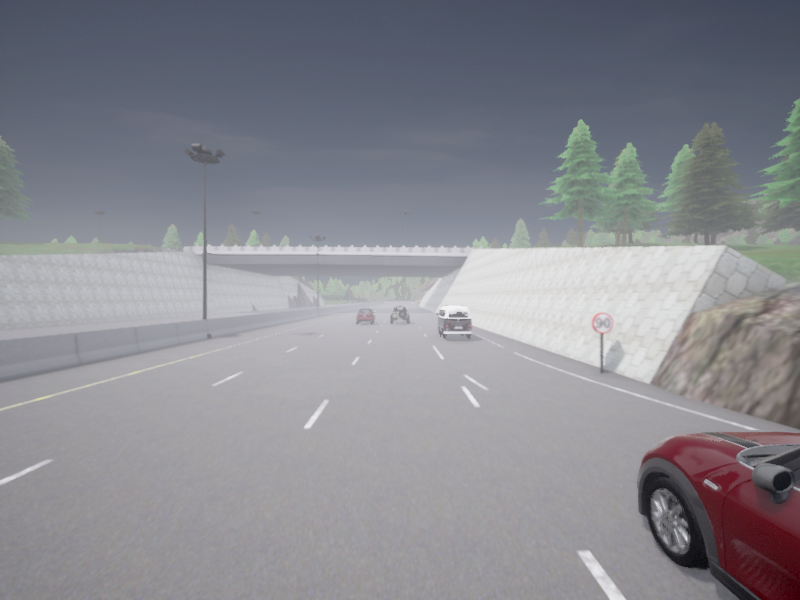vehicle: (637, 432, 799, 599), (436, 306, 471, 338), (391, 306, 408, 322), (357, 308, 374, 323)
